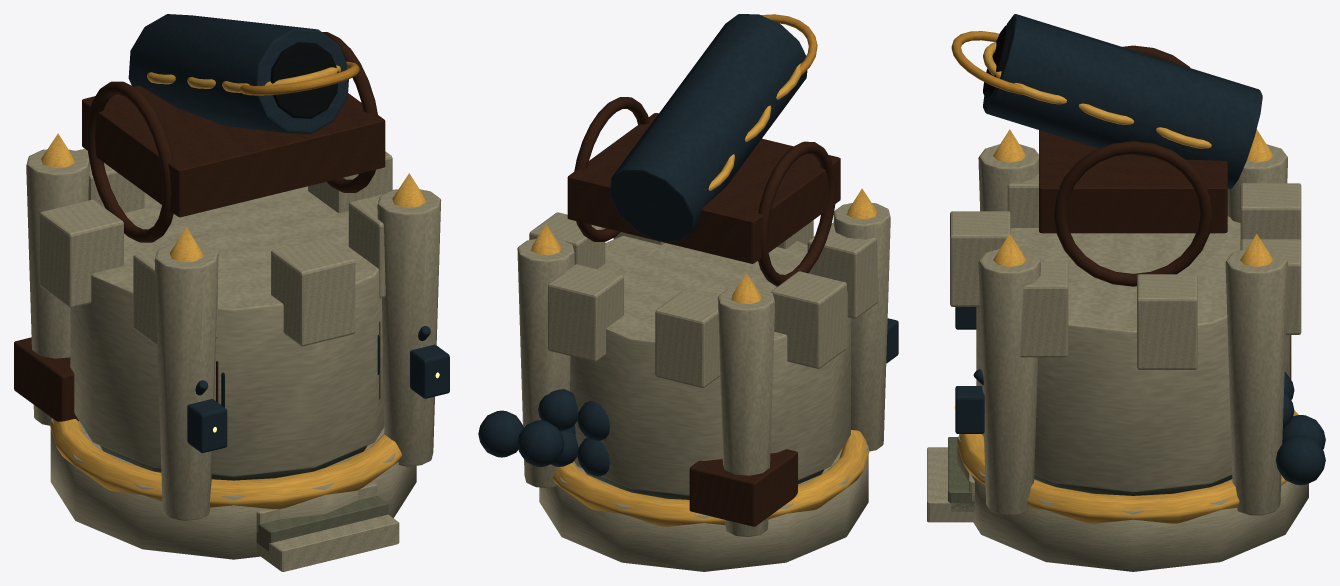
File: tower-cannon-2-base.glb
3 renders of one model, left to right at view 1: azimuth 30°, elevation 25°; view 2: azimuth 150°, elevation 25°; view 3: azimuth 270°, elevation 25°, orthographic. The views are drawn at different scales.
Parts seen in each view (by area): view 1: Foundation, Turret, cannon-L2-base; view 2: Foundation, Turret, cannon-L2-base; view 3: Foundation, Turret, cannon-L2-base.
Boxes of the visible parts, x1=… form: Foundation: x1=14, y1=133, x2=449, y2=571; Turret: x1=82, y1=14, x2=385, y2=242; cannon-L2-base: x1=50, y1=418, x2=416, y2=559; Foundation: x1=478, y1=188, x2=898, y2=536; Turret: x1=567, y1=14, x2=840, y2=286; cannon-L2-base: x1=539, y1=442, x2=868, y2=571; Foundation: x1=927, y1=129, x2=1325, y2=523; Turret: x1=951, y1=14, x2=1262, y2=286; cannon-L2-base: x1=957, y1=434, x2=1308, y2=571.
Bounding box in the file's own units: 1.71 × 2.53 × 1.91.
12 materials, 12 textured.
